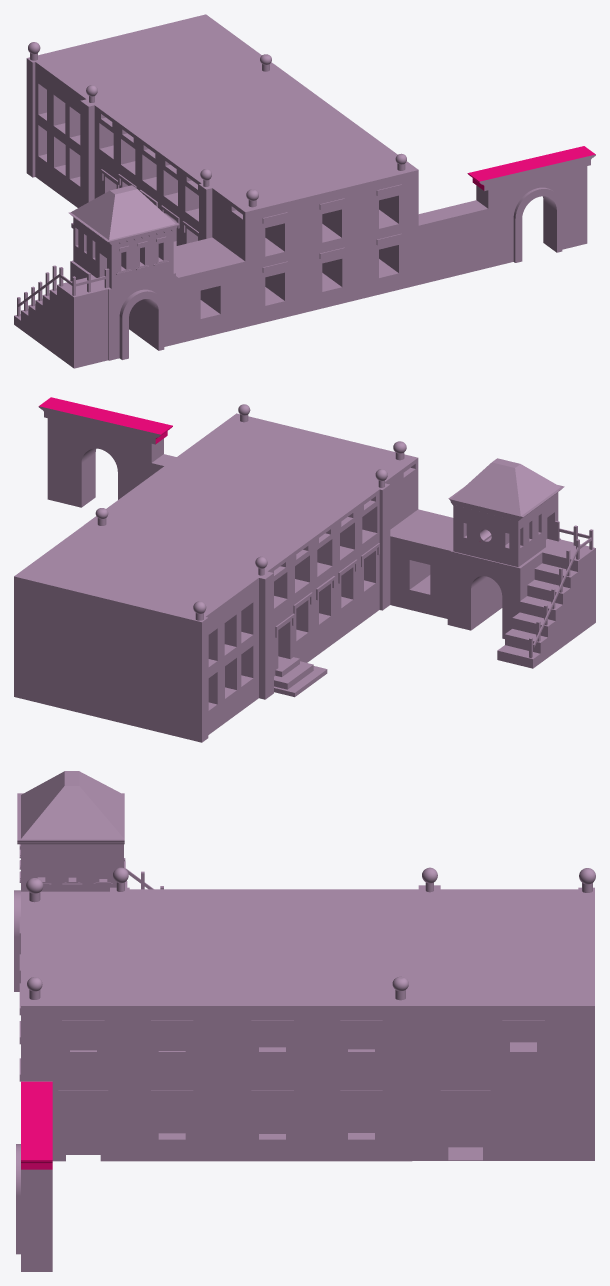
The model's file is Kinga Nocuń 4cp.obj.
3 renders of one model, top to bottom at view 1: azimuth 30°, elevation 25°; view 2: azimuth 150°, elevation 25°; view 3: azimuth 270°, elevation 25°, orthographic. The views are drawn at different scales.
Parts seen in each view (by area): view 1: Kinga Nocuń 4cp\Ciało stałe; view 2: Kinga Nocuń 4cp\Ciało stałe; view 3: Kinga Nocuń 4cp\Ciało stałe.
Boxes of the visible parts, x1=… form: Kinga Nocuń 4cp\Ciało stałe: x1=14, y1=14, x2=595, y2=368; Kinga Nocuń 4cp\Ciało stałe: x1=14, y1=397, x2=595, y2=742; Kinga Nocuń 4cp\Ciało stałe: x1=14, y1=771, x2=595, y2=1271.
Size of the model in its own units: 210 by 57.48 by 151.
